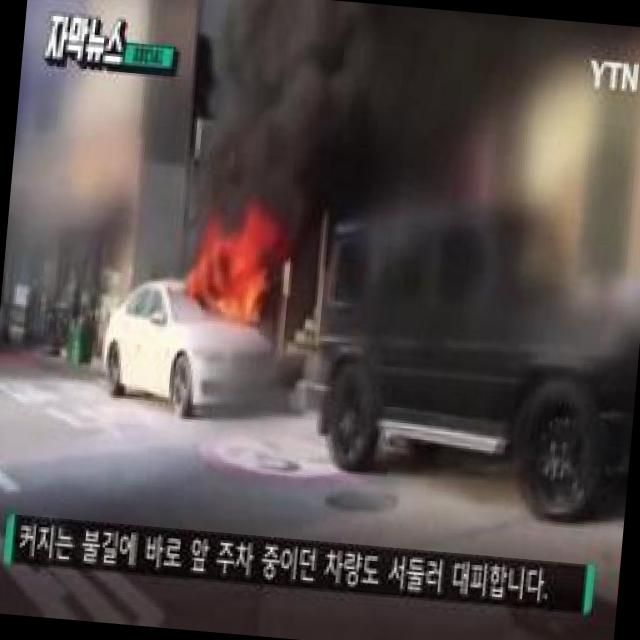Fire: (192, 225, 268, 325)
Smoke: (199, 0, 378, 219)
